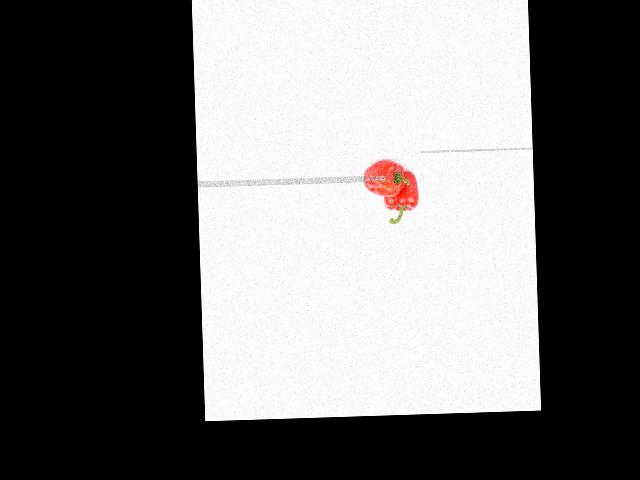bell_pepper: (357, 160, 408, 201)
